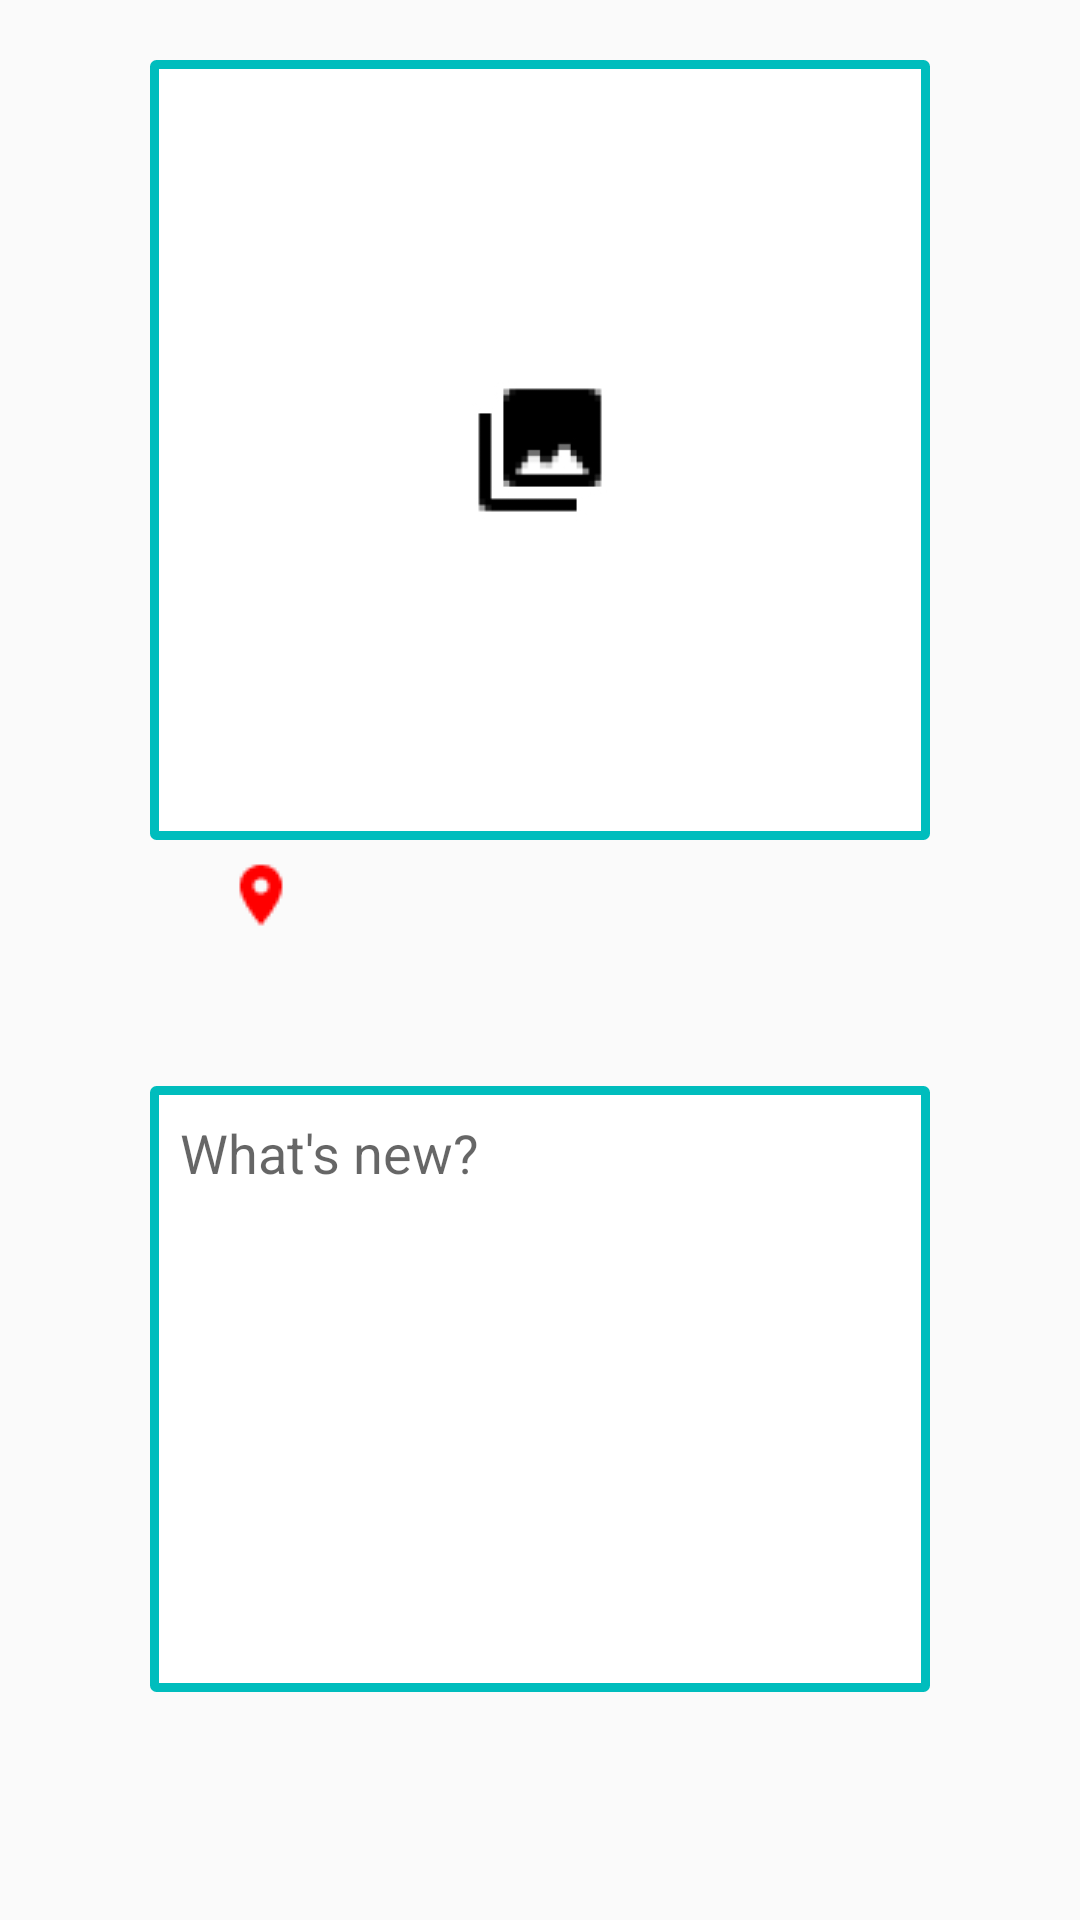

Icons on this 1080 x 1920 Android screen, each with the point to tap as (x=x, y=y):
marker: (x=261, y=895)
